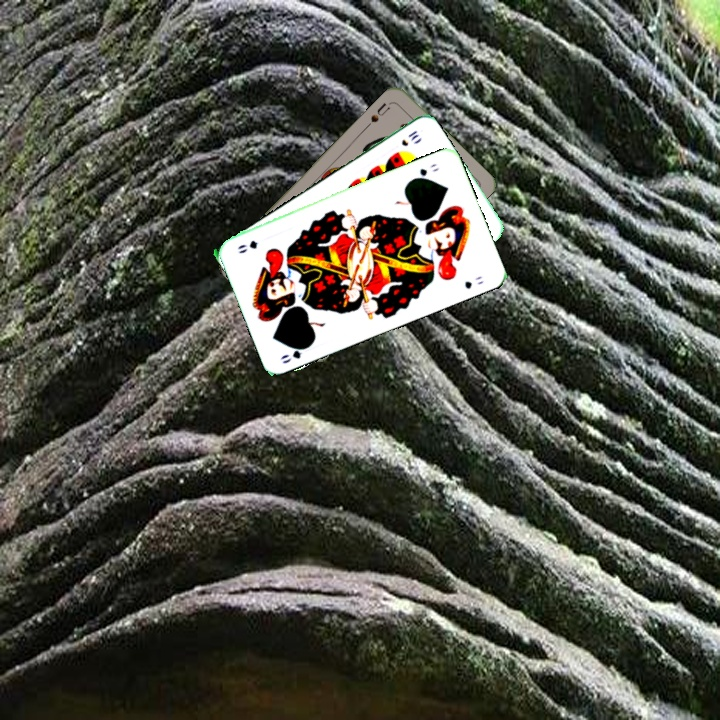GO: (276, 340, 314, 366), (408, 160, 441, 183)
S10: (397, 126, 422, 149)
SU: (367, 98, 395, 125)
